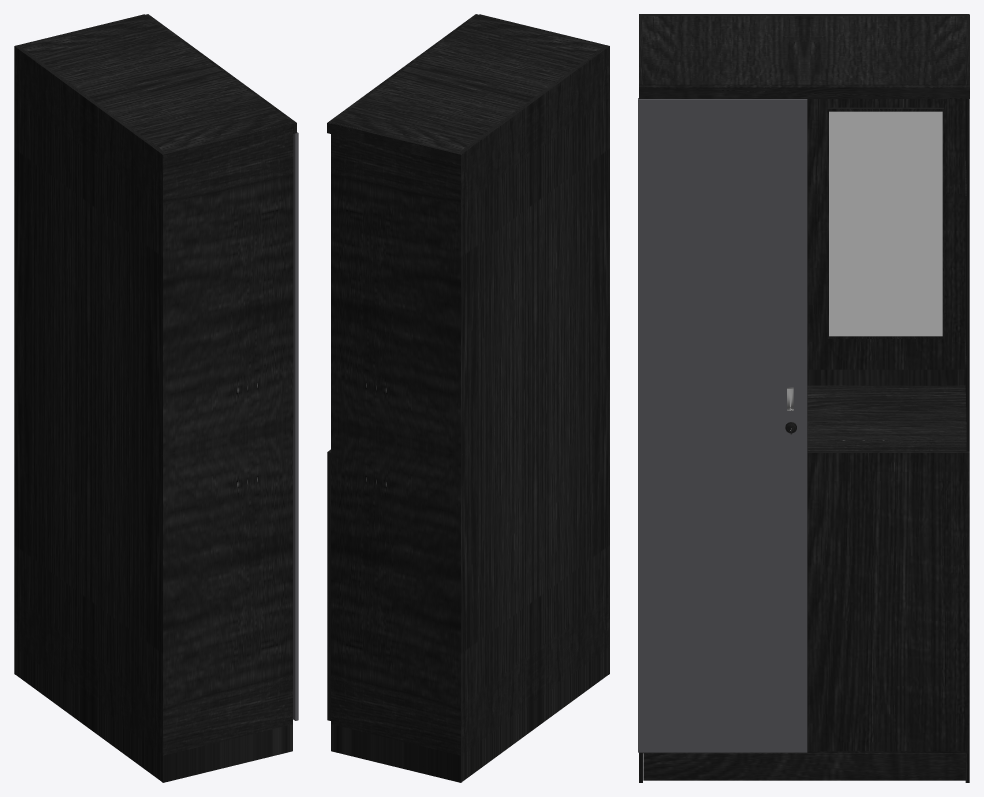
Rendered from LemariBlack.fbx.
The picture shows the model from 3 angles, left to right: view 1: azimuth 30°, elevation 25°; view 2: azimuth 150°, elevation 25°; view 3: azimuth 270°, elevation 25°; orthographic projection. The views are drawn at different scales.
Parts seen in each view (by area): view 1: Cube.001, dor, Cube.002; view 2: Cube.001, Cube.002, dorDown; view 3: dor, dorDown, dorUp, Cube.001, Cube.007, Cube, Cube.002, Cube.003.
Part boxes in pixels (left/top/right/bottom): Cube.001: left=14, top=14, right=293, bottom=782; dor: left=293, top=132, right=298, bottom=720; Cube.002: left=145, top=14, right=296, bottom=133; Cube.001: left=331, top=14, right=609, bottom=782; Cube.002: left=327, top=14, right=478, bottom=165; dorDown: left=327, top=449, right=330, bottom=720; dor: left=638, top=98, right=807, bottom=752; dorDown: left=807, top=451, right=969, bottom=751; dorUp: left=807, top=99, right=965, bottom=369; Cube.001: left=639, top=14, right=969, bottom=782; Cube.007: left=807, top=385, right=966, bottom=451; Cube: left=643, top=753, right=965, bottom=780; Cube.002: left=639, top=15, right=969, bottom=98; Cube.003: left=807, top=99, right=807, bottom=751.
Size of the model in its own units: 45.75 by 184 by 79.2.
